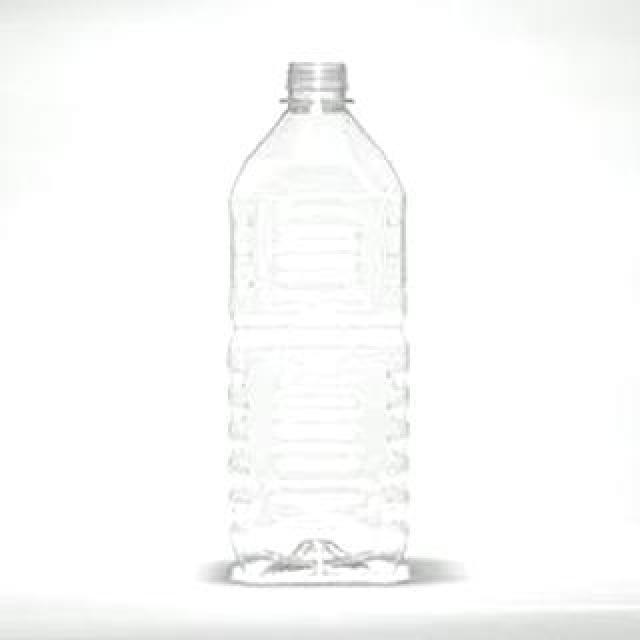Pet_Bottle: (212, 50, 420, 592)
